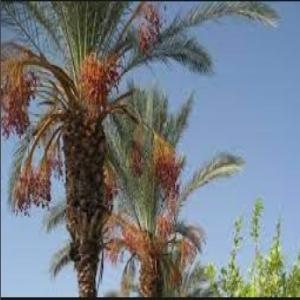palm tree: (0, 0, 280, 296)
